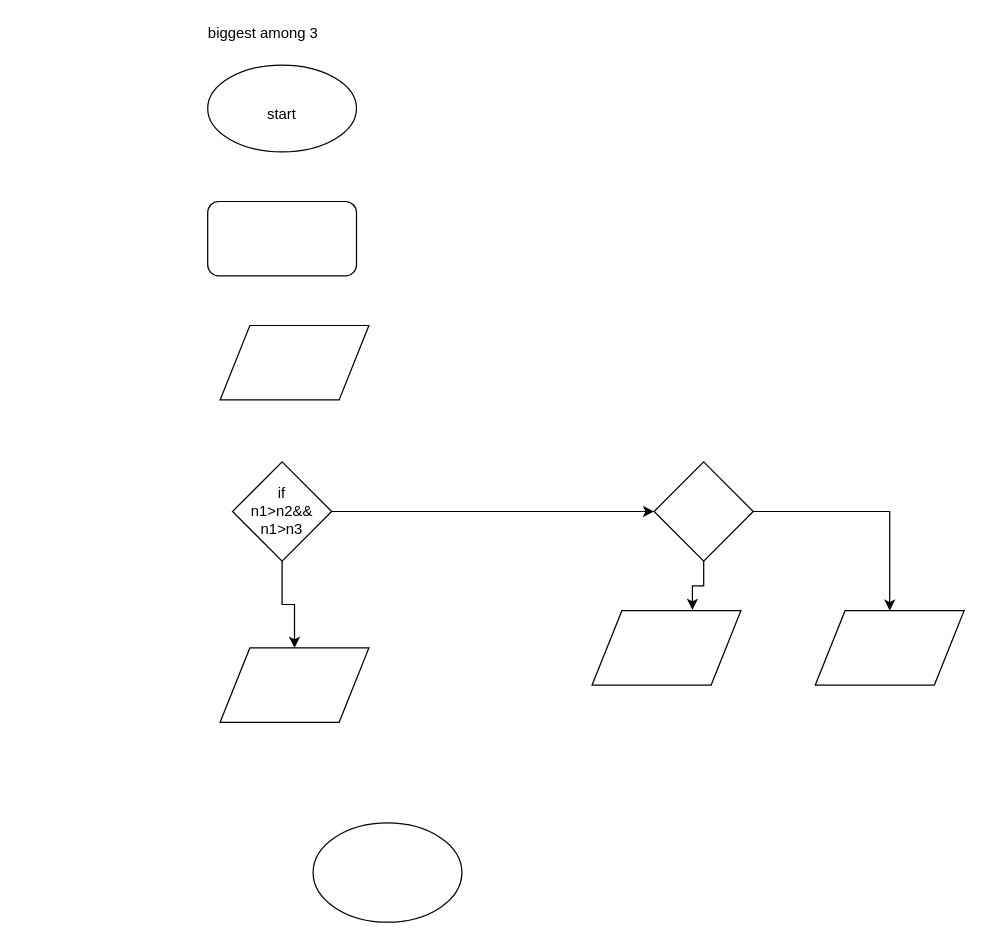
The diagram is 986 pixels wide and 944 high, and some of its shapes have lost their labels. The shapes that lost their labels are listed below. From the top down, each one's centre as x and y in pixels, then its label:
At [281,238]: "declare n1,n2,n3".
At [294,362]: "Read n1,n2,n3".
